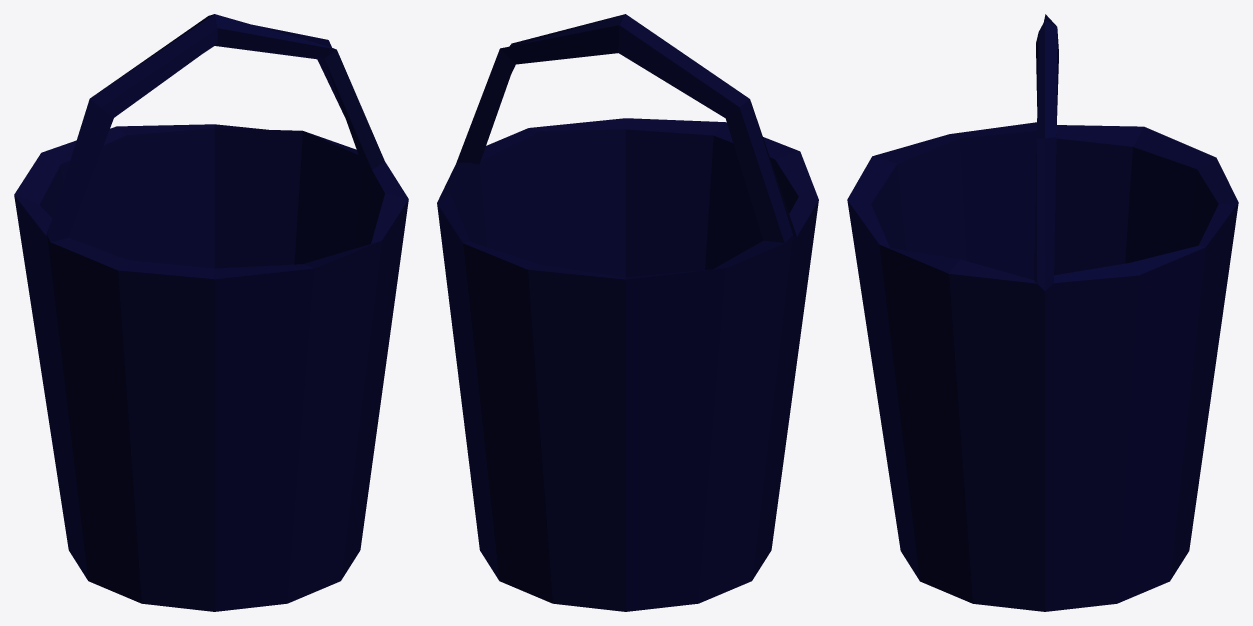
Rendered from bucket.glb.
3 views of the same model, side by side, from view 1: azimuth 30°, elevation 25°; view 2: azimuth 150°, elevation 25°; view 3: azimuth 270°, elevation 25° (orthographic).
Parts seen in each view (by area): view 1: Bucket; view 2: Bucket; view 3: Bucket.
Part boxes in pixels (bbox=[...]): Bucket: bbox=[14, 14, 408, 611]; Bucket: bbox=[437, 14, 818, 611]; Bucket: bbox=[847, 14, 1238, 611].
Size of the model in its own units: 0.7012 by 1.07 by 0.712.
Materials: 1 (1 with a texture image).
